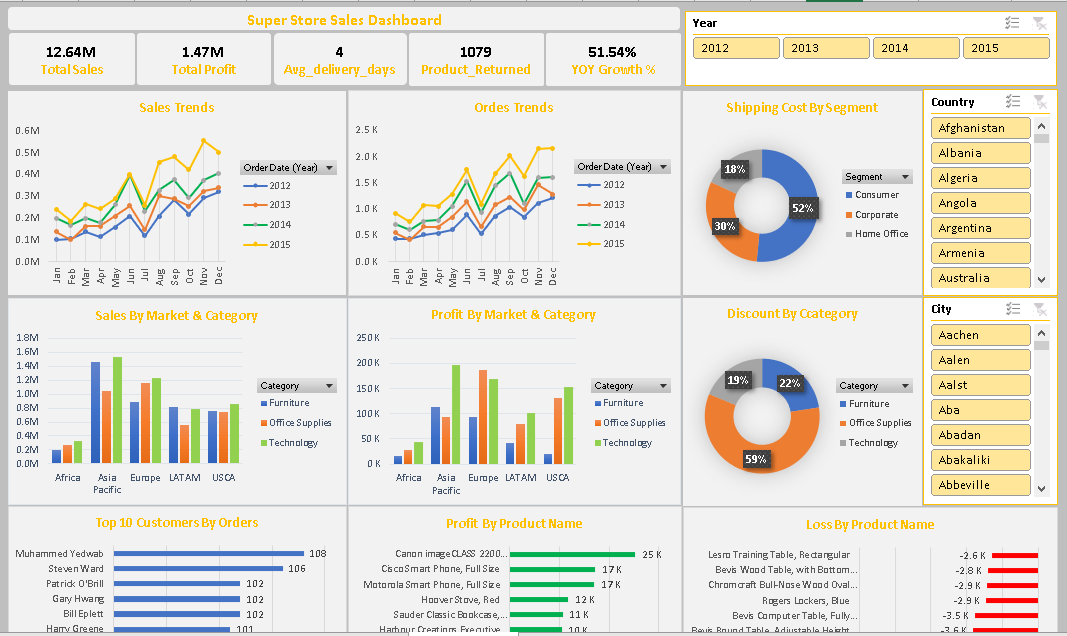

The dashboard page shown, as its layout file describes it:
{"tool":"powerbi","page":{"name":"Sales analysis","canvas":[1300,850],"ordinal":0},"visuals":[{"type":"slicer","fields":{"Values":["Orders.Order Date.Variation.Date Hierarchy.Year"]},"box":[4.2,7,885.4,50.6],"z":0},{"type":"clusteredColumnChart","title":"Sales by Market and Category","fields":{"Category":["Orders.Market"],"Y":["Sum(Orders.Sales)"],"Series":["Orders.Category"]},"box":[4.2,393.5,427.3,234.7],"z":1000},{"type":"clusteredBarChart","title":"Top 10 Profitable Products","fields":{"Y":["Sum(Orders.Profit)"],"Category":["Orders.Product Name"]},"box":[434.3,632.4,427.3,213.6],"z":2000},{"type":"clusteredBarChart","title":"Top 10 Loss-Making Products","fields":{"Y":["Sum(Orders.Profit)"],"Category":["Orders.Product Name"]},"box":[865.7,632.4,428.7,213.6],"z":3000},{"type":"slicer","fields":{"Values":["Orders.City"]},"box":[1016.1,118.1,276.9,52],"z":4000},{"type":"slicer","fields":{"Values":["Orders.Country"]},"box":[1016.1,63.2,276.9,50.6],"z":5000},{"type":"donutChart","title":"Shipping Cost by Segment","fields":{"Category":["Orders.Segment"],"Y":["Sum(Orders.Shipping Cost)"]},"box":[865.7,177.1,428.7,215],"z":6000},{"type":"barChart","title":"Top 10 Customers by order","fields":{"Category":["Orders.Customer Name"],"Y":["CountNonNull(Orders.Order ID)"]},"box":[4.2,632.4,427.3,212.2],"z":7000},{"type":"clusteredColumnChart","title":"Profit by Market and Category","fields":{"Category":["Orders.Market"],"Series":["Orders.Category"],"Y":["Orders.Total profitt"]},"box":[434.3,393.5,427.3,234.7],"z":8000},{"type":"donutChart","title":"Discount by Category","fields":{"Category":["Orders.Category"],"Y":["Sum(Orders.Discount)"]},"box":[866.1,394.9,428.7,234.7],"z":8000,"group":"g1"},{"type":"lineChart","title":"Sales Trends","fields":{"Category":["Orders.Order Date.Variation.Date Hierarchy.Year","Orders.month"],"Y":["Orders.Total saless"],"Series":["Orders.Order Date.Variation.Date Hierarchy.Year"]},"box":[4.2,174.3,427.3,217.8],"z":9000},{"type":"textbox","box":[900.9,7,392.1,50.6],"z":10000},{"type":"card","fields":{"Values":["Orders.Total sales"]},"box":[4.1,74.8,180.9,91.1],"z":11000,"group":"g2"},{"type":"card","fields":{"Values":["Avg(Orders.Delivery days)"]},"box":[360.5,74.8,172.8,91.1],"z":11000,"group":"g4"},{"type":"card","fields":{"Values":["Sum(Orders.Shipping Cost)"]},"box":[986.6,269.8,91.4,52],"z":11000},{"type":"card","fields":{"Values":["Orders.Total Profit"]},"box":[186.4,74.8,172.8,91.1],"z":12000,"group":"g3"},{"type":"lineChart","title":"Order Trends","fields":{"Category":["Orders.Order Date.Variation.Date Hierarchy.Year","Orders.month"],"Y":["CountNonNull(Orders.Order ID)"],"Series":["Orders.Order Date.Variation.Date Hierarchy.Year"]},"box":[434.3,174.3,427.3,217.8],"z":12000},{"type":"group","id":"g1","title":"Group 2","box":[866.1,394.9,428.7,234.7],"z":13000},{"type":"textbox","box":[903.3,66.7,103.4,47.6],"z":14000},{"type":"card","fields":{"Values":["Sum(Returns.Product Returned)"]},"box":[534.6,74.8,172.8,91.1],"z":14000,"group":"g5"},{"type":"card","fields":{"Values":["Orders.YOY Growth%"]},"box":[708.8,74.8,180.9,91.1],"z":15000,"group":"g6"},{"type":"textbox","box":[903.3,121.1,103.4,47.6],"z":15000},{"type":"card","fields":{"Values":["Sum(Orders.Discount)"]},"box":[981.1,492.1,88.5,60.4],"z":15000,"group":"g1"},{"type":"group","id":"g2","title":"Group 1","box":[4.1,74.8,190.3,91.1],"z":16000},{"type":"group","id":"g3","title":"Group 3","box":[186.4,74.8,186.4,91.1],"z":17000},{"type":"group","id":"g4","title":"Group 4","box":[360.5,74.8,182.3,91.1],"z":18000},{"type":"group","id":"g5","title":"Group 5","box":[534.6,74.8,176.8,91.1],"z":19000},{"type":"group","id":"g6","title":"Group 6","box":[708.8,74.8,192.1,91.1],"z":20000},{"type":"image","box":[302,76.2,70.7,61.2],"z":20000,"group":"g3"},{"type":"image","box":[642.1,74.8,69.4,55.8],"z":21000,"group":"g5"},{"type":"image","box":[129.1,80.5,65.3,51.7],"z":21000,"group":"g2"},{"type":"image","box":[830.2,80.5,70.7,53.1],"z":22000,"group":"g6"},{"type":"image","box":[455.7,76.2,87.1,53.1],"z":23000,"group":"g4"}]}

Visuals, with their boxes on the page's 1300x850 design canvas (x1, y1, x2, y2). These are canvas units, not pixel positions in the 1067x636 screenshot, which may show the page scaled, cropped or inside an application window:
slicer - Orders.Order Date.Variation.Date Hierarchy.Year: 4/7/890/58
"Sales by Market and Category" clusteredColumnChart: 4/394/432/628
"Top 10 Profitable Products" clusteredBarChart: 434/632/862/846
"Top 10 Loss-Making Products" clusteredBarChart: 866/632/1294/846
slicer - Orders.City: 1016/118/1293/170
slicer - Orders.Country: 1016/63/1293/114
"Shipping Cost by Segment" donutChart: 866/177/1294/392
"Top 10 Customers by order" barChart: 4/632/432/845
"Profit by Market and Category" clusteredColumnChart: 434/394/862/628
"Discount by Category" donutChart: 866/395/1295/630
"Sales Trends" lineChart: 4/174/432/392
textbox: 901/7/1293/58
card - Orders.Total sales: 4/75/185/166
card - Avg(Orders.Delivery days): 360/75/533/166
card - Sum(Orders.Shipping Cost): 987/270/1078/322
card - Orders.Total Profit: 186/75/359/166
"Order Trends" lineChart: 434/174/862/392
"Group 2" group: 866/395/1295/630
textbox: 903/67/1007/114
card - Sum(Returns.Product Returned): 535/75/707/166
card - Orders.YOY Growth%: 709/75/890/166
textbox: 903/121/1007/169
card - Sum(Orders.Discount): 981/492/1070/552
"Group 1" group: 4/75/194/166
"Group 3" group: 186/75/373/166
"Group 4" group: 360/75/543/166
"Group 5" group: 535/75/711/166
"Group 6" group: 709/75/901/166
image: 302/76/373/137
image: 642/75/712/131
image: 129/80/194/132
image: 830/80/901/134
image: 456/76/543/129
